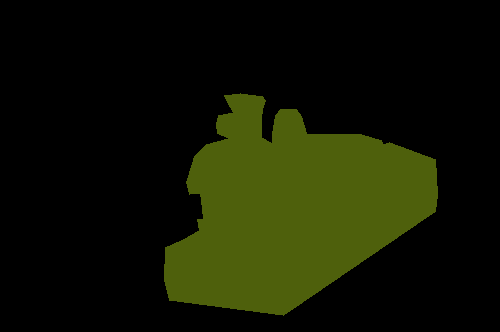Train: (164, 93, 438, 316)
